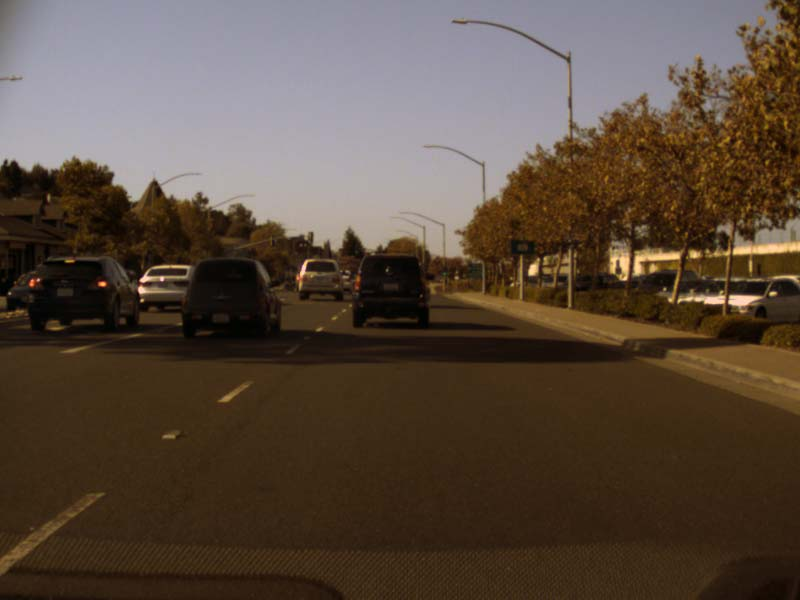Green: (354, 246, 359, 255), (442, 266, 446, 275)
